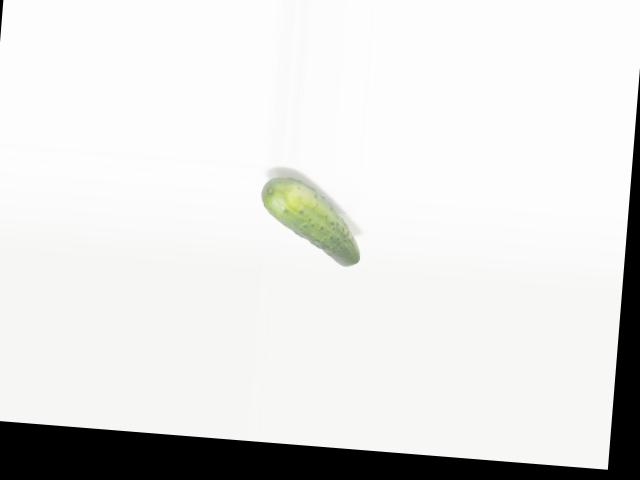cucumber: (257, 176, 366, 267)
